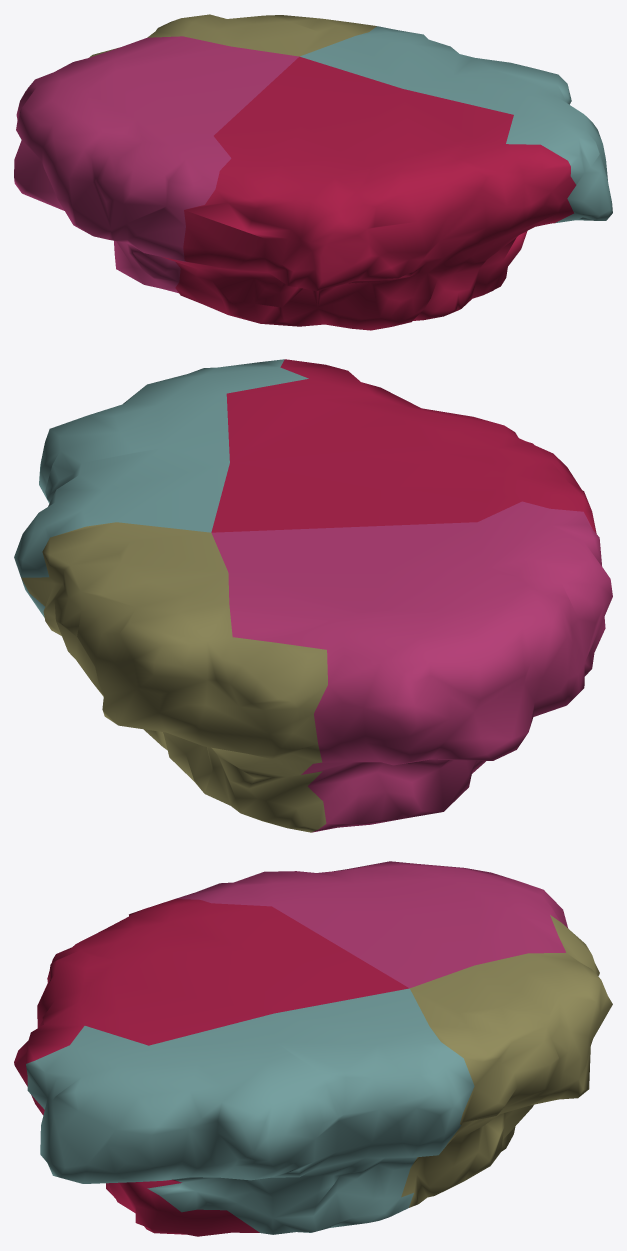
The model's file is island_01.fbx.
3 views of the same model, one above another, from view 1: azimuth 30°, elevation 25°; view 2: azimuth 150°, elevation 25°; view 3: azimuth 270°, elevation 25° (orthographic). The views are drawn at different scales.
Parts seen in each view (by area): view 1: merge3; view 2: merge3; view 3: merge3.
Boxes of the visible parts, <box> form: merge3: <box>14,14,612,330</box>; merge3: <box>14,359,612,832</box>; merge3: <box>14,861,612,1236</box>.
Bounding box in the file's own units: 12.97 × 4.93 × 12.73.
